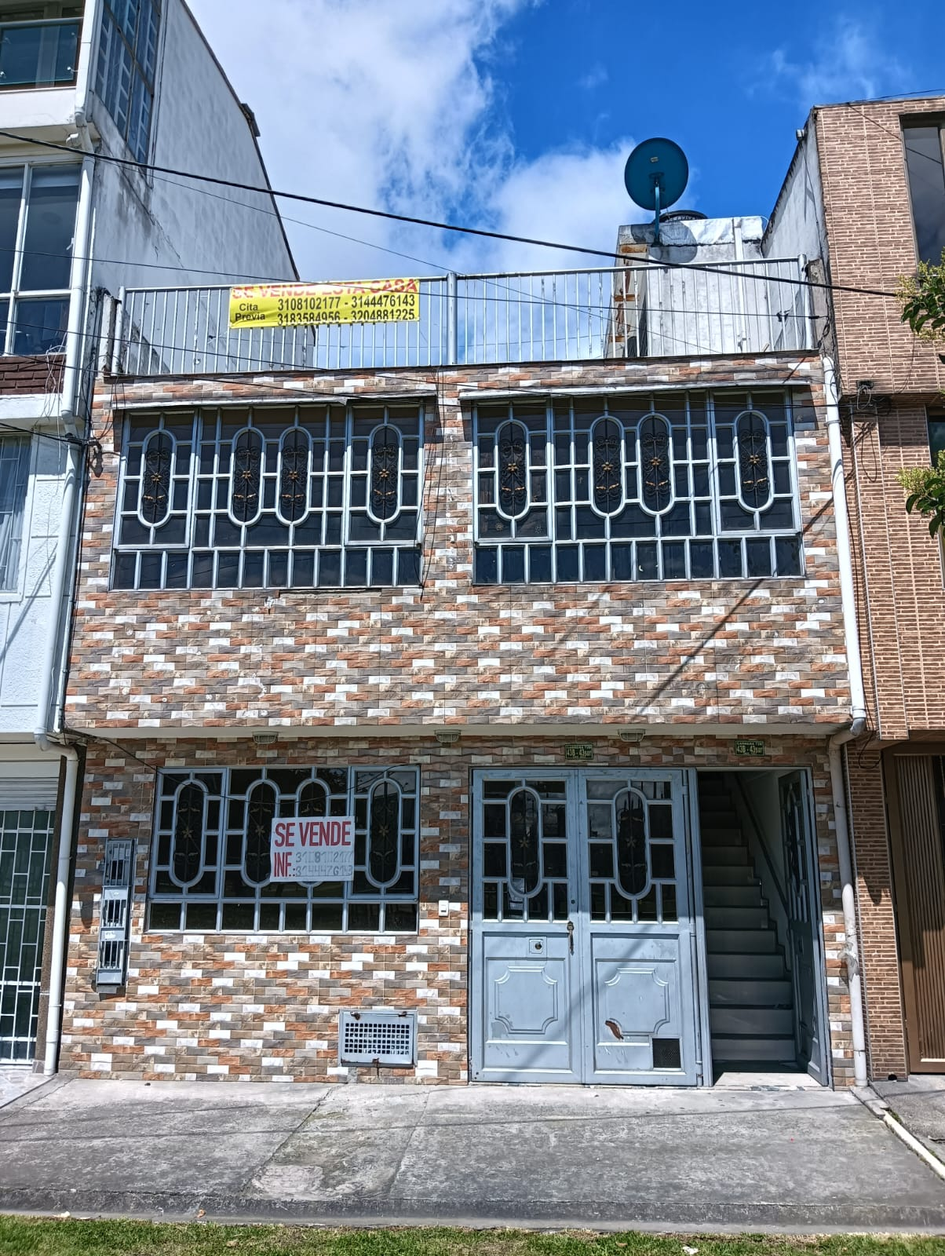House: (80, 241, 888, 1114)
